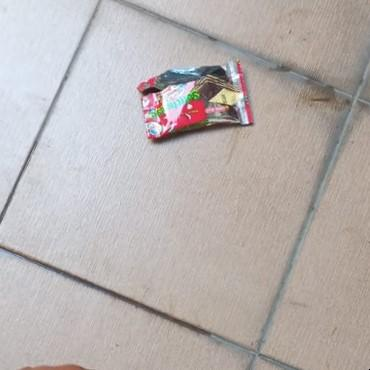Plastik: (138, 60, 254, 139)
